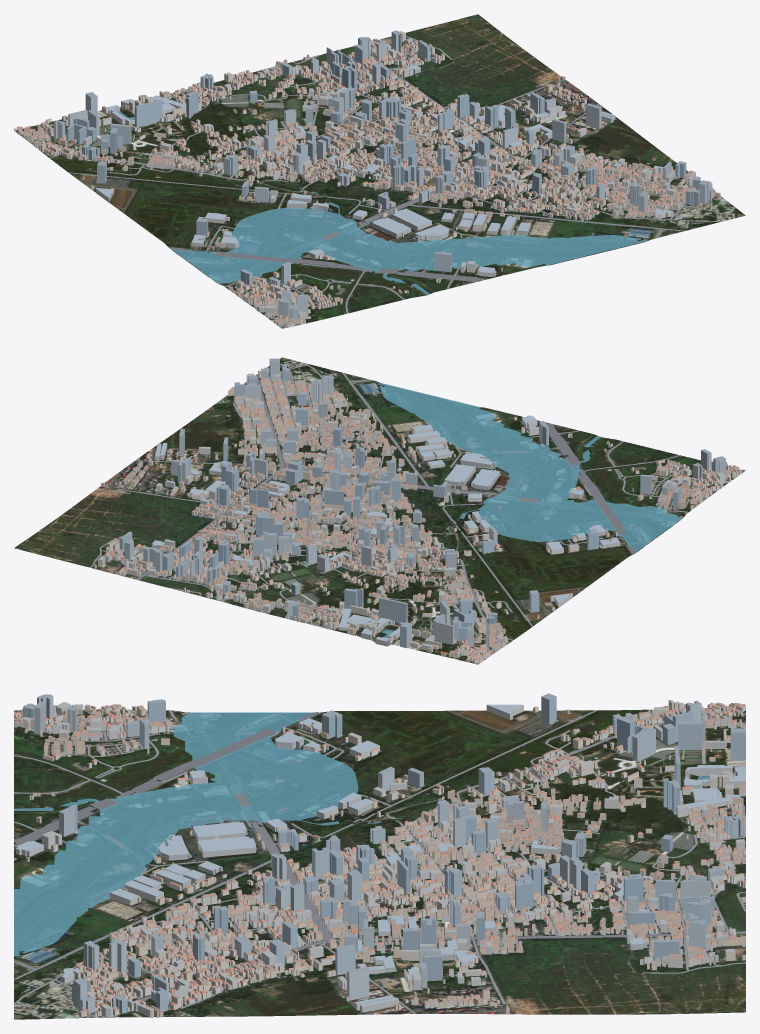
The picture shows the model from 3 angles, top to bottom: view 1: azimuth 30°, elevation 25°; view 2: azimuth 150°, elevation 25°; view 3: azimuth 270°, elevation 25°; orthographic projection. The views are drawn at different scales.
Visible parts, largest first — view 1: TERRAIN, BLDG_SHOPHOUSE_VILLA, BLDG_MODERN_TOWER, WATER, BLDG_TUBE_HOUSE, BLDG_APARTMENT, ROAD_METRO, BLDG_INDUSTRIAL_PORT; view 2: TERRAIN, BLDG_SHOPHOUSE_VILLA, BLDG_MODERN_TOWER, WATER, BLDG_TUBE_HOUSE, ROAD_METRO, BLDG_APARTMENT, BLDG_INDUSTRIAL_PORT; view 3: TERRAIN, BLDG_SHOPHOUSE_VILLA, BLDG_MODERN_TOWER, WATER, BLDG_TUBE_HOUSE, BLDG_APARTMENT, BLDG_INDUSTRIAL_PORT, ROAD_METRO.
Part boxes in pixels (x1,y1,x2,y2): TERRAIN: (15,14,745,328); BLDG_SHOPHOUSE_VILLA: (16,39,720,326); BLDG_MODERN_TOWER: (53,30,713,321); WATER: (117,111,647,294); BLDG_TUBE_HOUSE: (14,38,715,327); BLDG_APARTMENT: (41,31,712,320); ROAD_METRO: (27,36,734,327); BLDG_INDUSTRIAL_PORT: (96,64,673,277); TERRAIN: (14,357,745,664); BLDG_SHOPHOUSE_VILLA: (105,370,738,663); BLDG_MODERN_TOWER: (119,358,725,648); WATER: (379,382,680,637); BLDG_TUBE_HOUSE: (94,378,741,664); ROAD_METRO: (89,363,742,658); BLDG_APARTMENT: (98,373,725,650); BLDG_INDUSTRIAL_PORT: (151,379,620,646); TERRAIN: (14,708,745,1019); BLDG_SHOPHOUSE_VILLA: (14,702,745,1017); BLDG_MODERN_TOWER: (23,693,745,1013); WATER: (14,712,709,956); BLDG_TUBE_HOUSE: (14,703,745,1017); BLDG_APARTMENT: (22,700,745,1017); BLDG_INDUSTRIAL_PORT: (15,704,745,1012); ROAD_METRO: (14,708,745,1018).
Size of the model in its own units: 2000 by 106 by 2000.
Materials: 8 (1 with a texture image).
